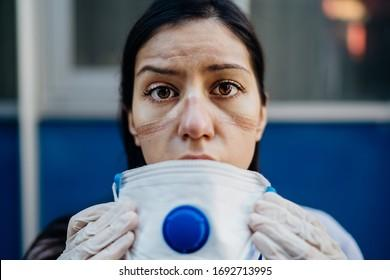gloves: (250, 189, 349, 259), (55, 200, 136, 260)
